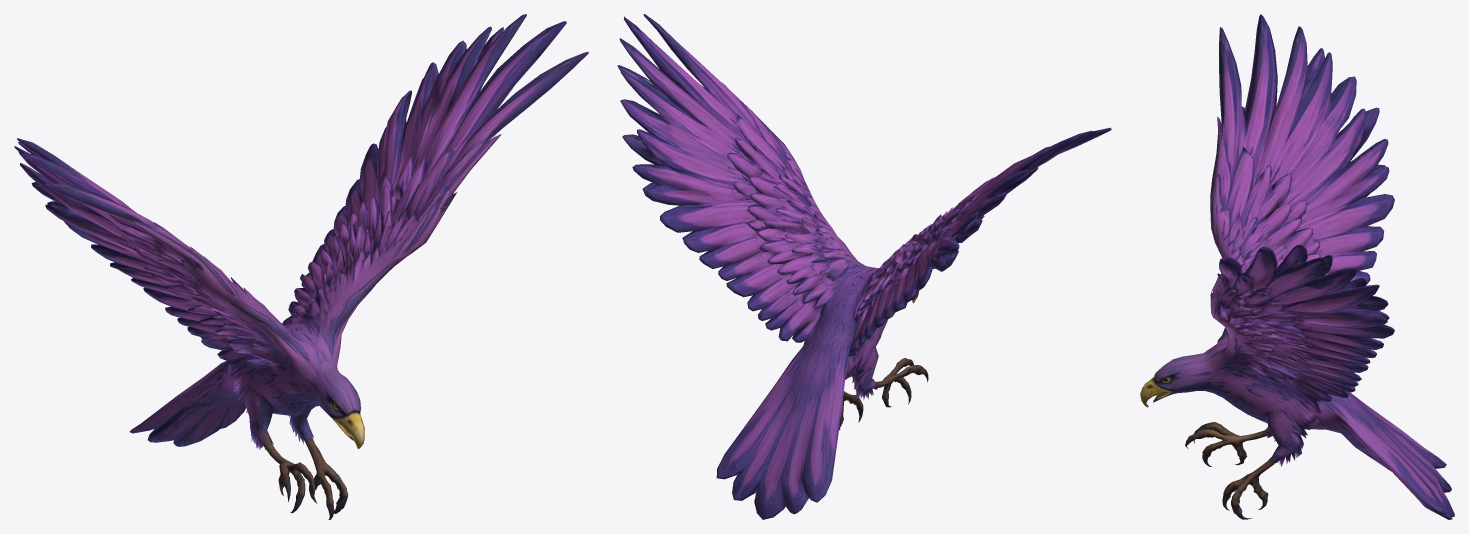
Rendered from falco.glb.
3 views of the same model, side by side, from view 1: azimuth 30°, elevation 25°; view 2: azimuth 150°, elevation 25°; view 3: azimuth 270°, elevation 25° (orthographic). The views are drawn at different scales.
Size of the model in its own units: 0.9536 by 0.7314 by 0.5415.
1 material, 1 textured.
